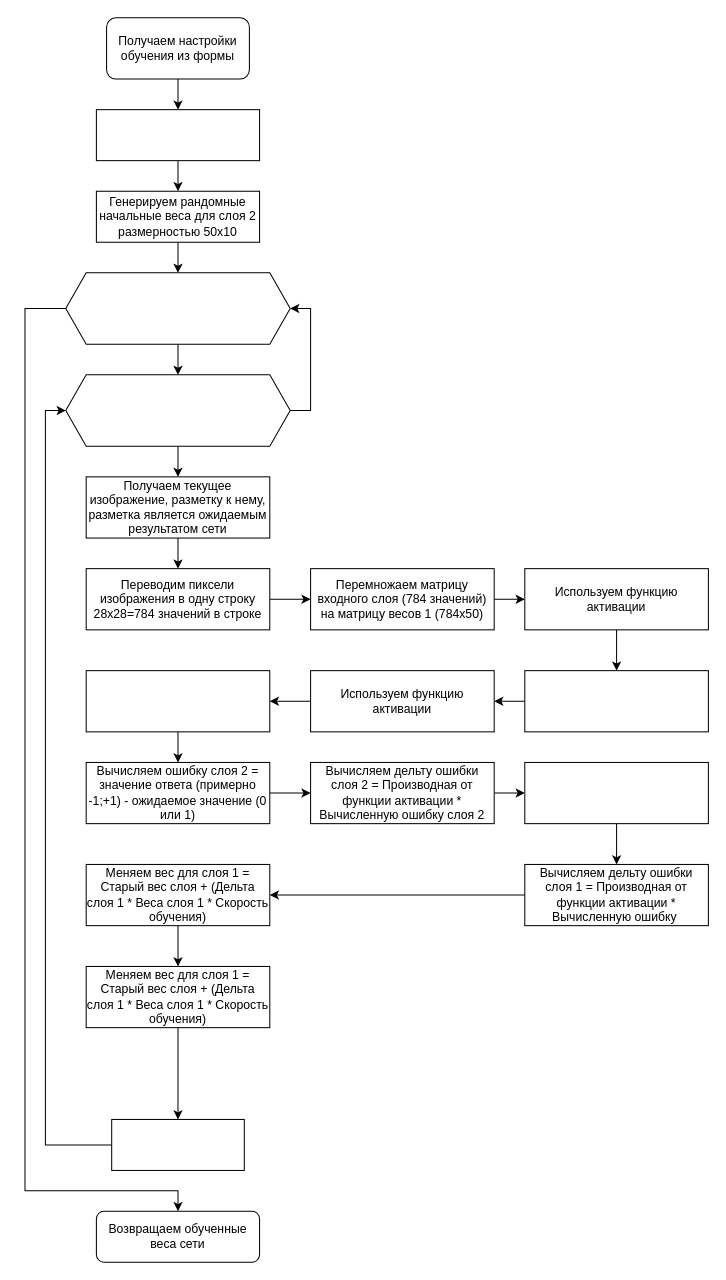
Image size: 726x1280. Some labels were removed from this diagram. The centre of each missing label's shape, as x and y in pixels:
"Выводим результат обучения" goes at (x=177, y=1144).
"Вычисляем ошибку слоя 1 = Дельта ошибки слоя 2 * Веса слоя между 1 и 2" goes at (x=616, y=792).
"Генерируем рандомные начальные веса для слоя 1 размерностью 28х28х50" goes at (x=177, y=135).
"Макс. значение функции активации будет являться ответом сети" goes at (x=177, y=701).
"Перемножаем матрицу входного слоя (50 значений) на матрицу весов 2 (50х10)" goes at (x=616, y=701).
"Проходимся по изображениям для обучения" goes at (x=177, y=410).
"Проходимся по пользовательскому параметру кол-ва Эпох" goes at (x=177, y=308).
